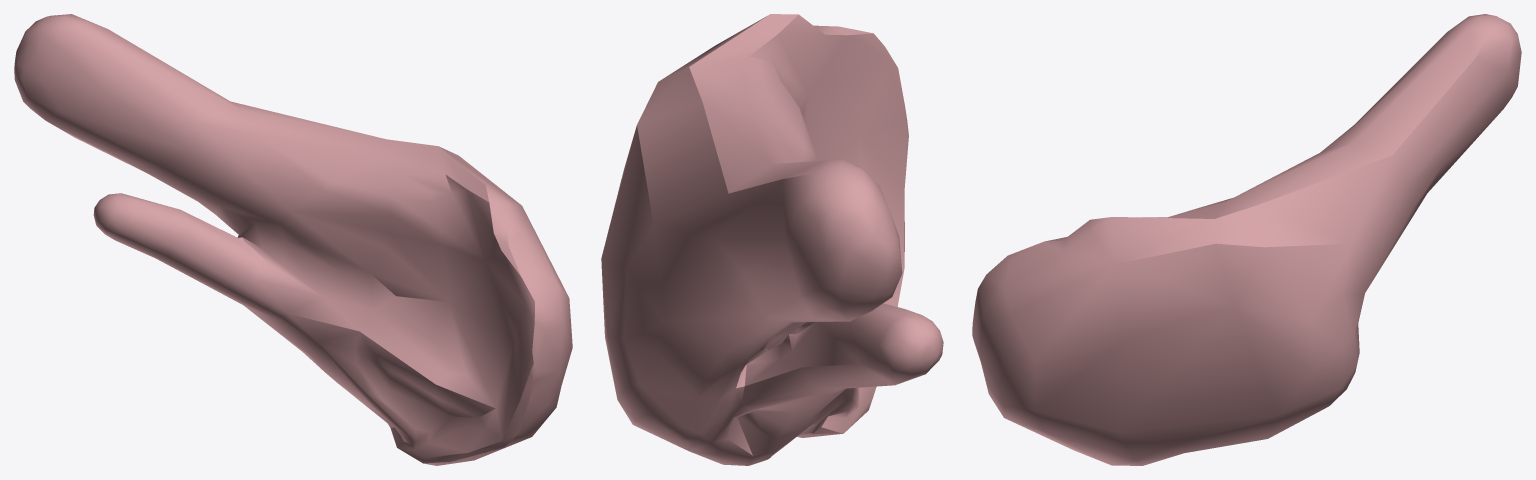
The model's file is fma7266_fj2429.glb.
3 renders of one model, left to right at view 1: azimuth 30°, elevation 25°; view 2: azimuth 150°, elevation 25°; view 3: azimuth 270°, elevation 25°, orthographic. The views are drawn at different scales.
Parts seen in each view (by area): view 1: FMA7266_FJ2429; view 2: FMA7266_FJ2429; view 3: FMA7266_FJ2429.
Part boxes in pixels (box(x1,y1,x2,y2)): FMA7266_FJ2429: box(14, 14, 572, 465); FMA7266_FJ2429: box(601, 14, 943, 465); FMA7266_FJ2429: box(972, 14, 1521, 465).
Bounding box in the file's own units: 0.0281 × 0.0298 × 0.0422.
